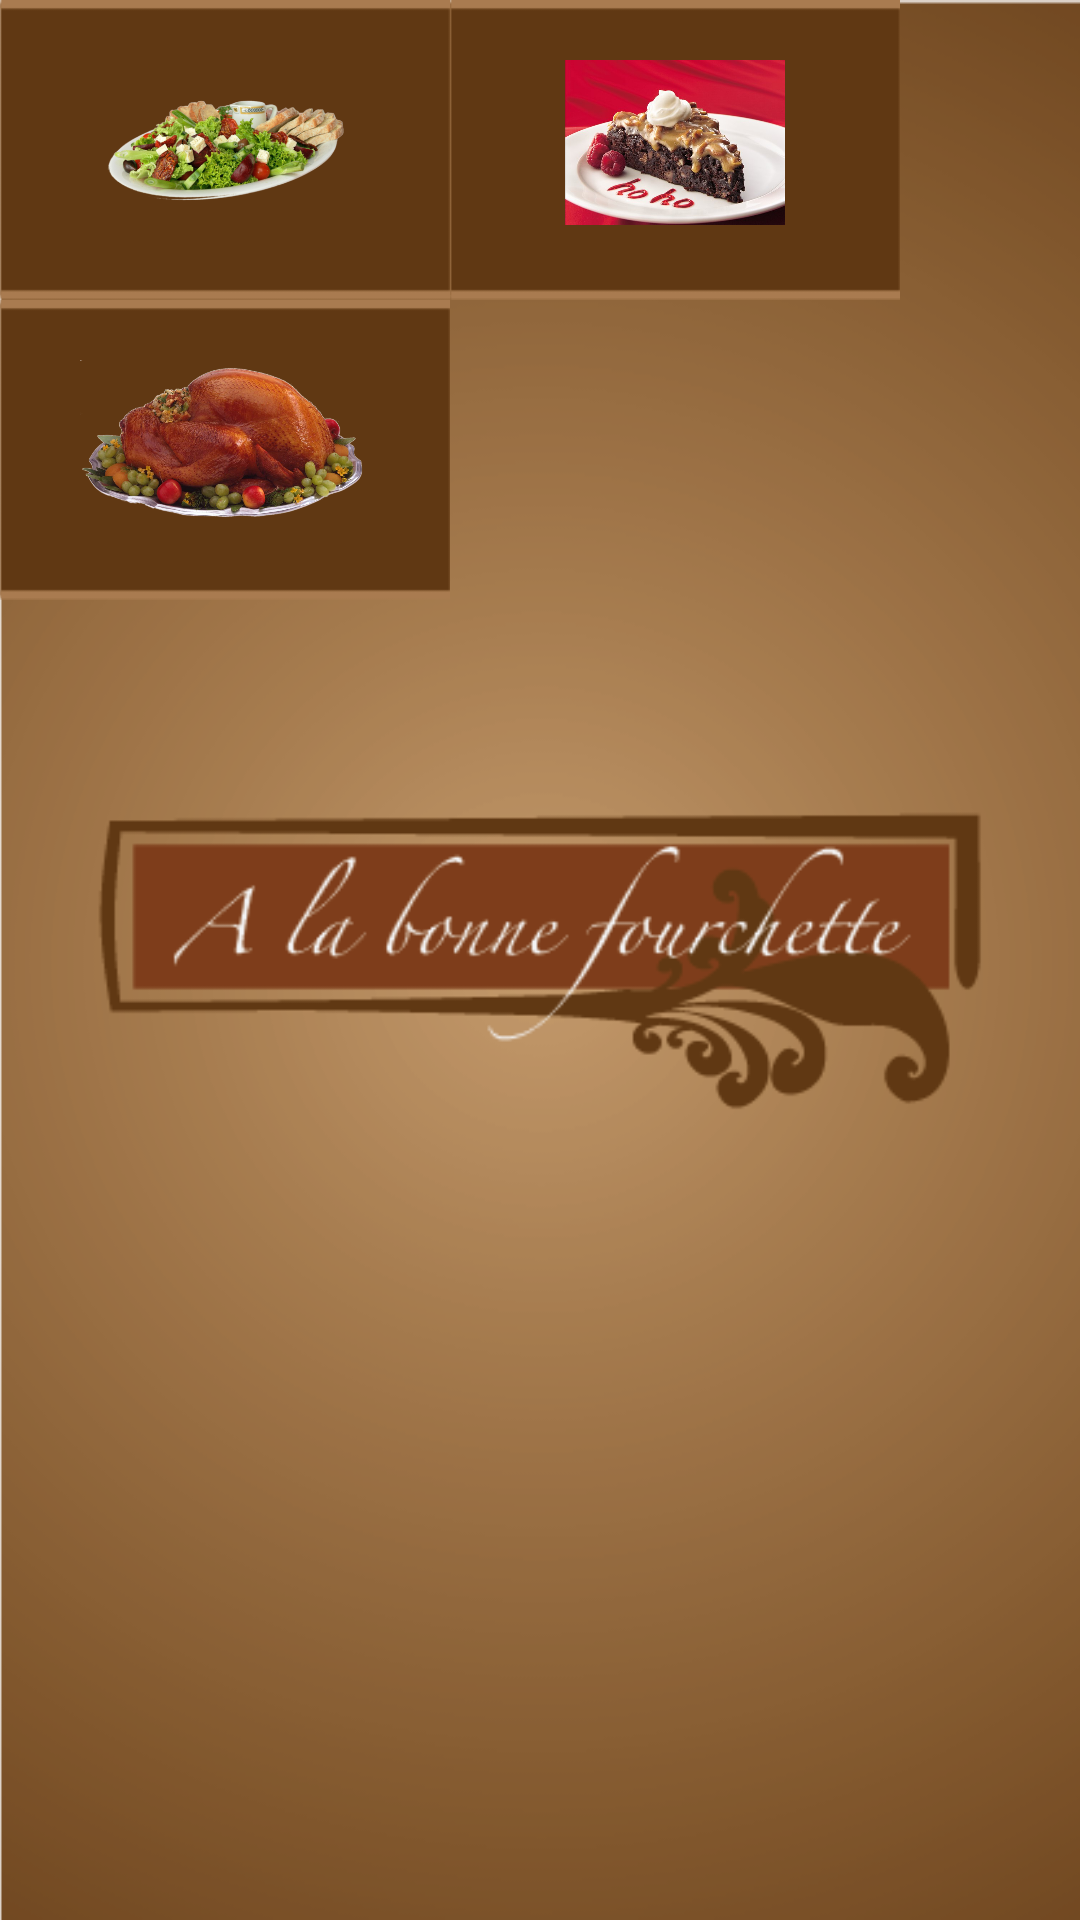

Icon bounding boxes for this 1080*1920 phone screenshot, format (x1, y1, x2, y2):
gateau: (565, 60, 785, 225)
salad platter: (108, 100, 344, 200)
